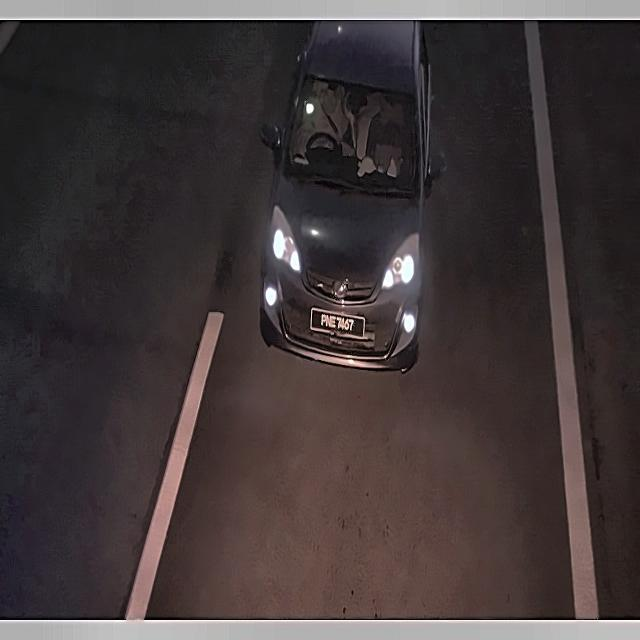car: (306, 298, 372, 347)
